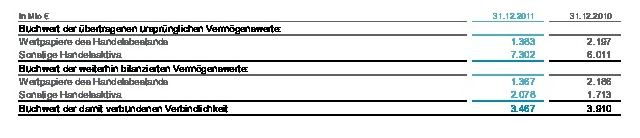table: (0, 0, 640, 138)
